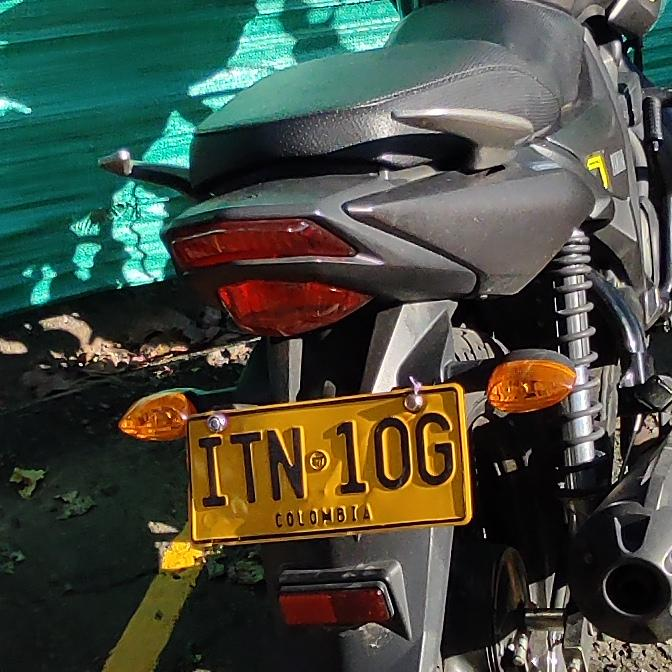plates: (183, 387, 464, 549)
